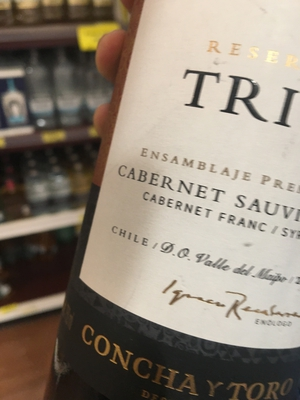trio cabernet sauvignon: (73, 1, 300, 388)
